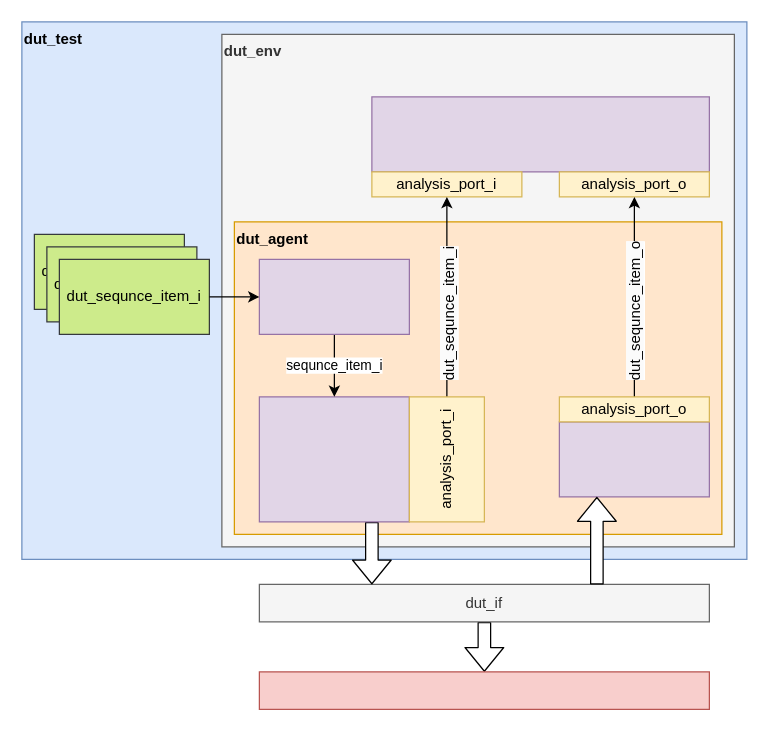
Image size: 769x731. Some labels were removed from this diagram. The centre of each missing label's shape, as x and y in pixels:
"dut" belongs at pixel 483 690.
"dut_driver" belongs at pixel 333 459.
"dut_monitor" belongs at pixel 633 459.
"dut_scoreboard" belongs at pixel 540 134.
"dut_sequncer" belongs at pixel 333 296.
